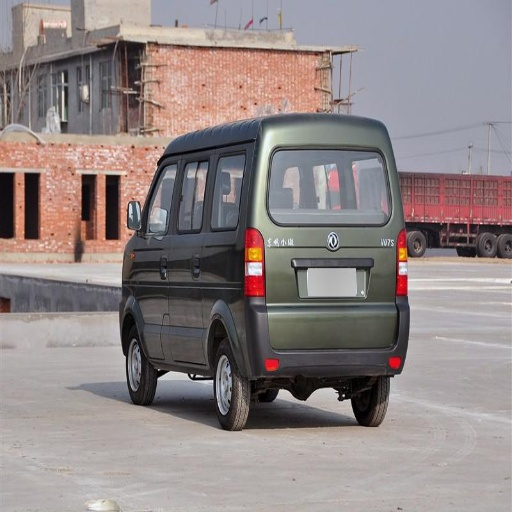back_bumper: (264, 297, 405, 373)
trunk: (142, 212, 391, 373)
